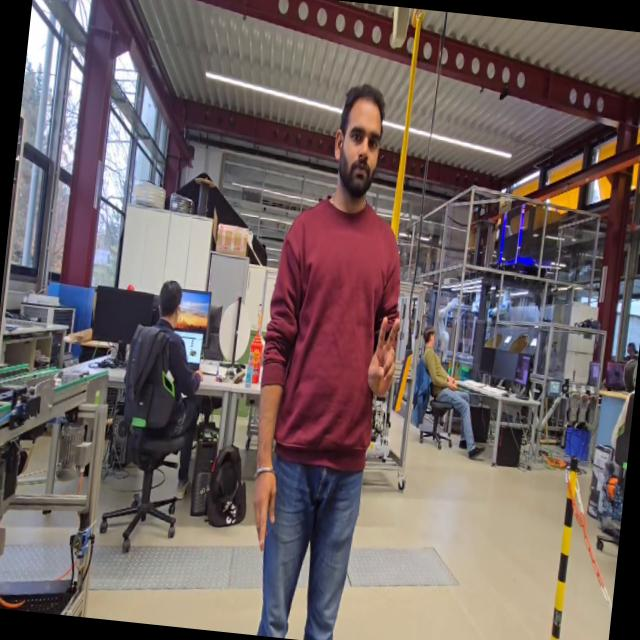v_sign: (363, 310, 403, 402)
